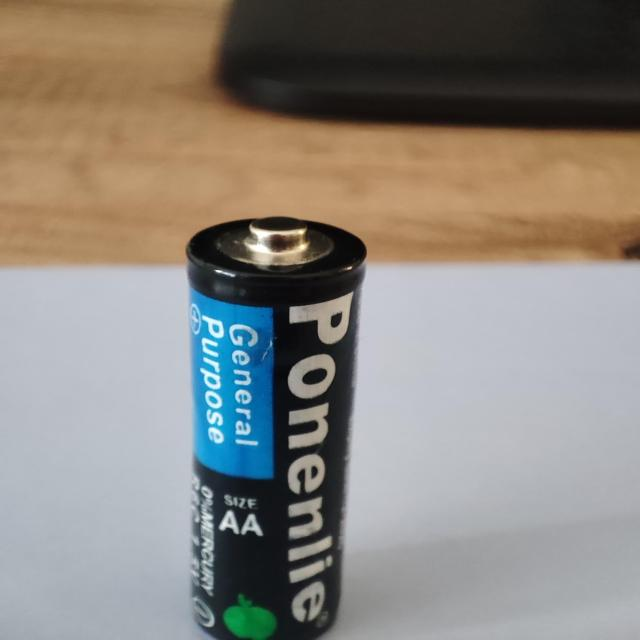AA: (185, 215, 368, 639)
